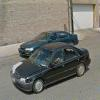Car: (9, 27, 94, 91)
